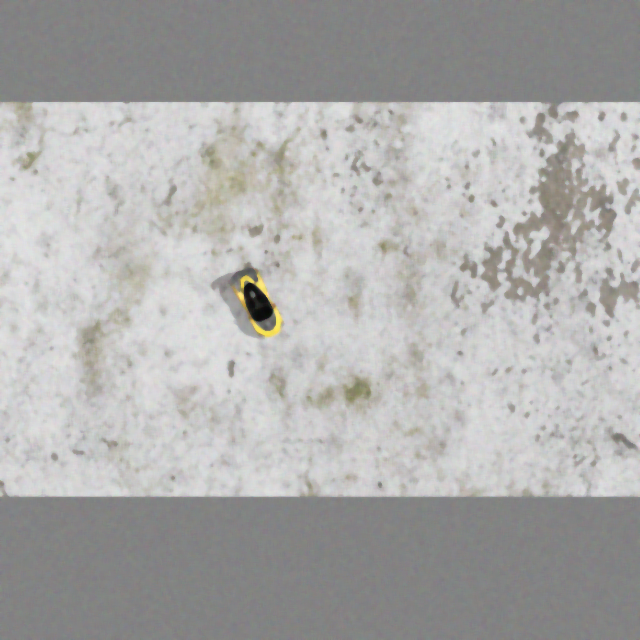car: (225, 263, 289, 344)
